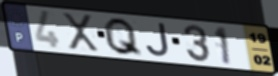1: (212, 26, 235, 67)
3: (183, 24, 212, 64)
4: (34, 9, 63, 52)
J: (144, 22, 172, 59)
Q: (102, 16, 145, 58)
X: (60, 11, 101, 53)
